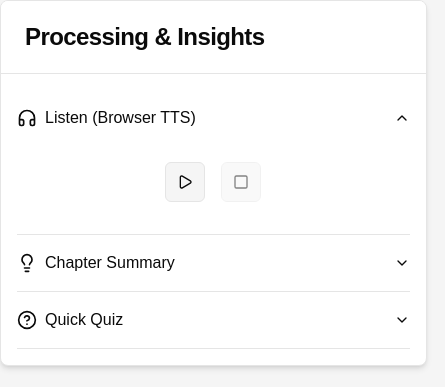
Scenario: resets generated content and stops speech when the selected book changes
Click the button "Chapter Summary" at (110, 262), box left=17, top=235, right=410, bottom=291
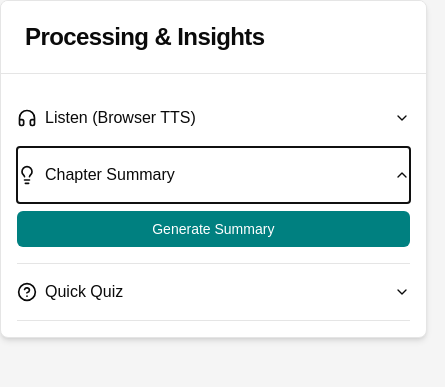
Click the button "Generate Summary" at (213, 229), box left=17, top=211, right=410, bottom=247
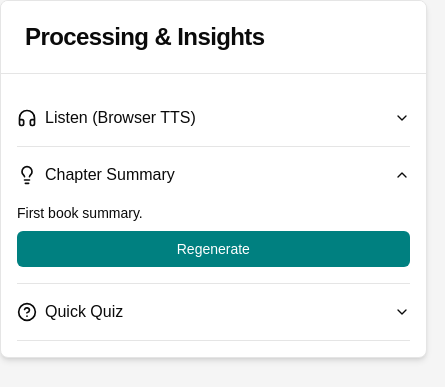
Check: the text "First book summary." is shown, box left=17, top=205, right=143, bottom=221
